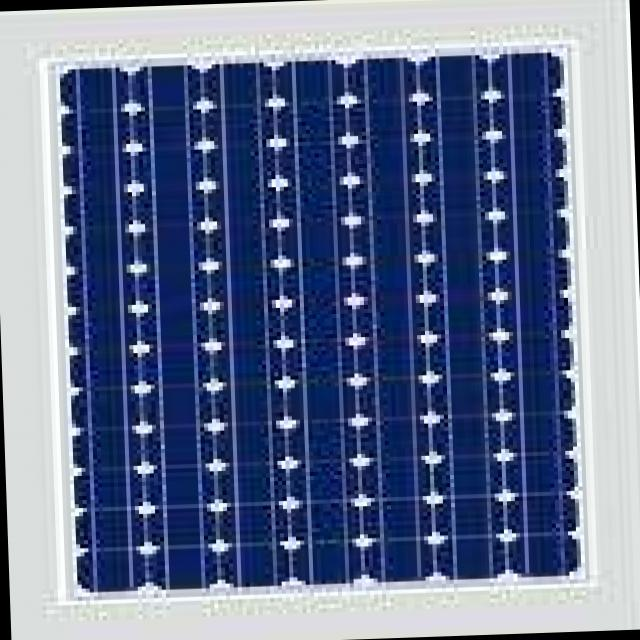no faulty: (59, 59, 578, 588)
